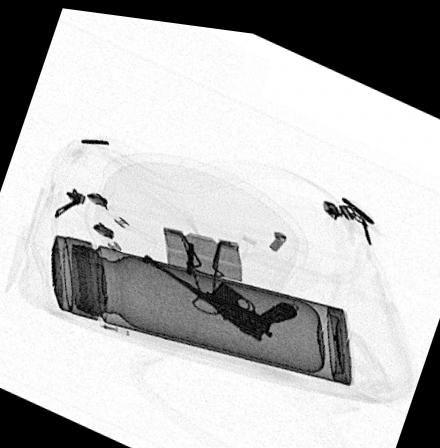Gun: (140, 246, 298, 335)
